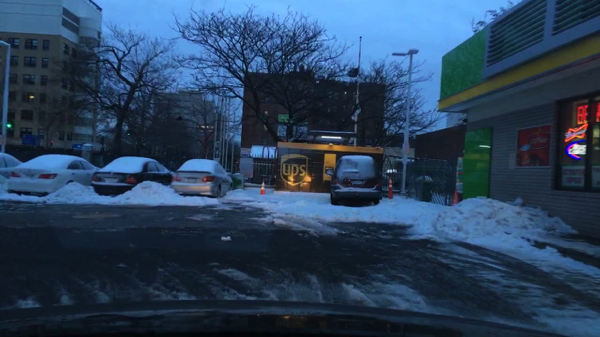car: (8, 153, 100, 198), (91, 156, 178, 197), (330, 154, 385, 206), (172, 159, 234, 197), (0, 150, 21, 181)
traffic light: (7, 118, 14, 132), (50, 140, 54, 147)
traffic sign: (215, 142, 220, 149)
